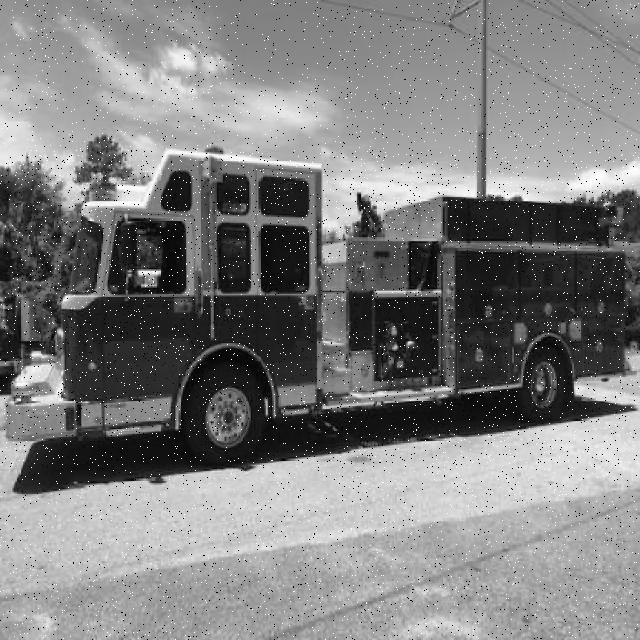Fire Truck: (4, 150, 630, 468)
